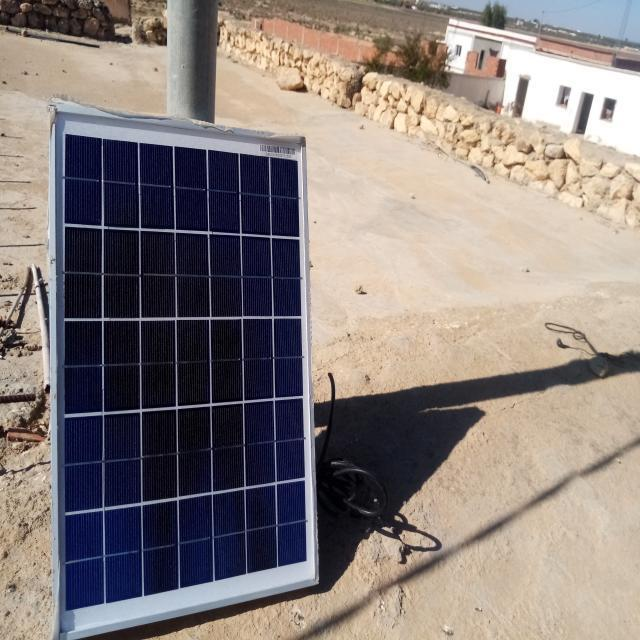Normal Solar Panel: (54, 105, 320, 640)
